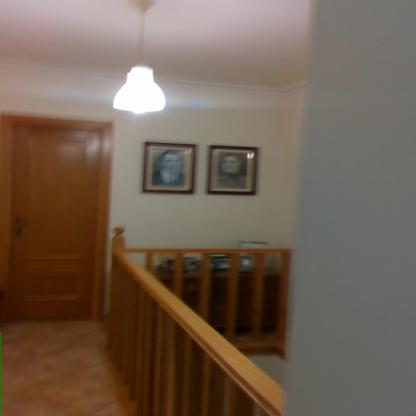closed: (0, 105, 118, 334)
